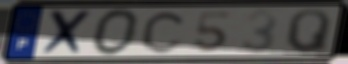3: (240, 7, 281, 55)
5: (190, 10, 234, 53)
C: (139, 9, 189, 55)
O: (91, 8, 143, 57)
Q: (284, 7, 333, 54)
X: (37, 8, 95, 57)
